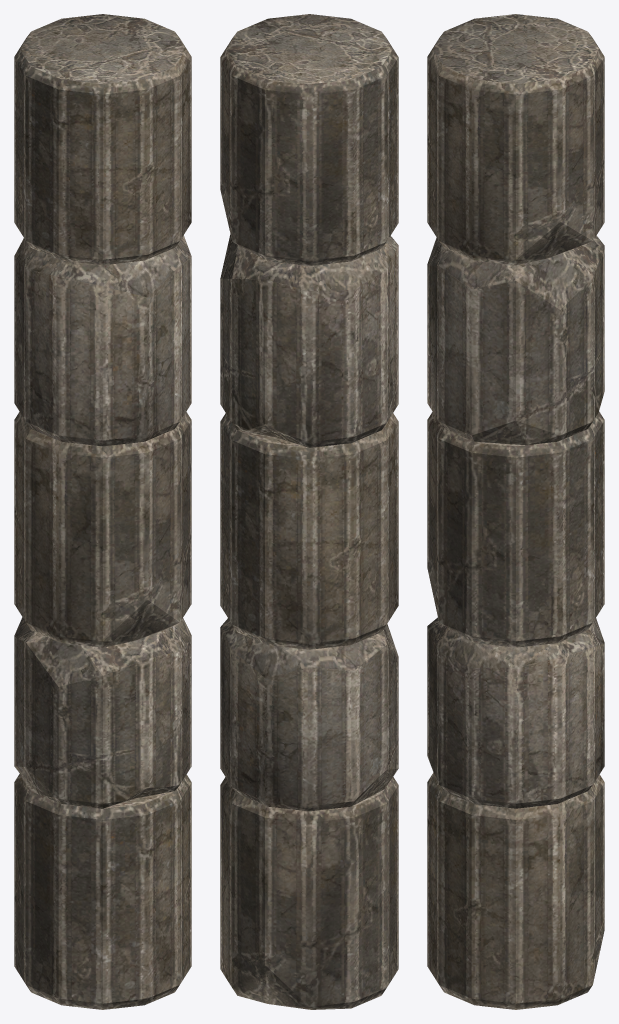
File: bg_lut_lutomb_pillar03_sm_old.FBX
3 renders of one model, left to right at view 1: azimuth 30°, elevation 25°; view 2: azimuth 150°, elevation 25°; view 3: azimuth 270°, elevation 25°, orthographic.
Parts seen in each view (by area): view 1: bg_lut_lutomb_pillar03_sm_old; view 2: bg_lut_lutomb_pillar03_sm_old; view 3: bg_lut_lutomb_pillar03_sm_old.
Part boxes in pixels (<box>): bg_lut_lutomb_pillar03_sm_old: <box>14,14,191,1009</box>; bg_lut_lutomb_pillar03_sm_old: <box>220,14,398,1009</box>; bg_lut_lutomb_pillar03_sm_old: <box>427,14,604,1009</box>.
Bounding box in the file's own units: 128 × 736 × 128.
